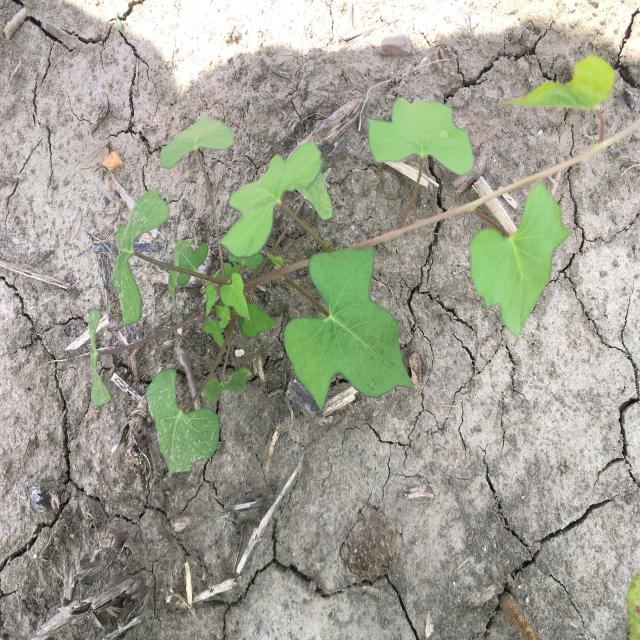MorningGlory: (89, 54, 616, 478)
